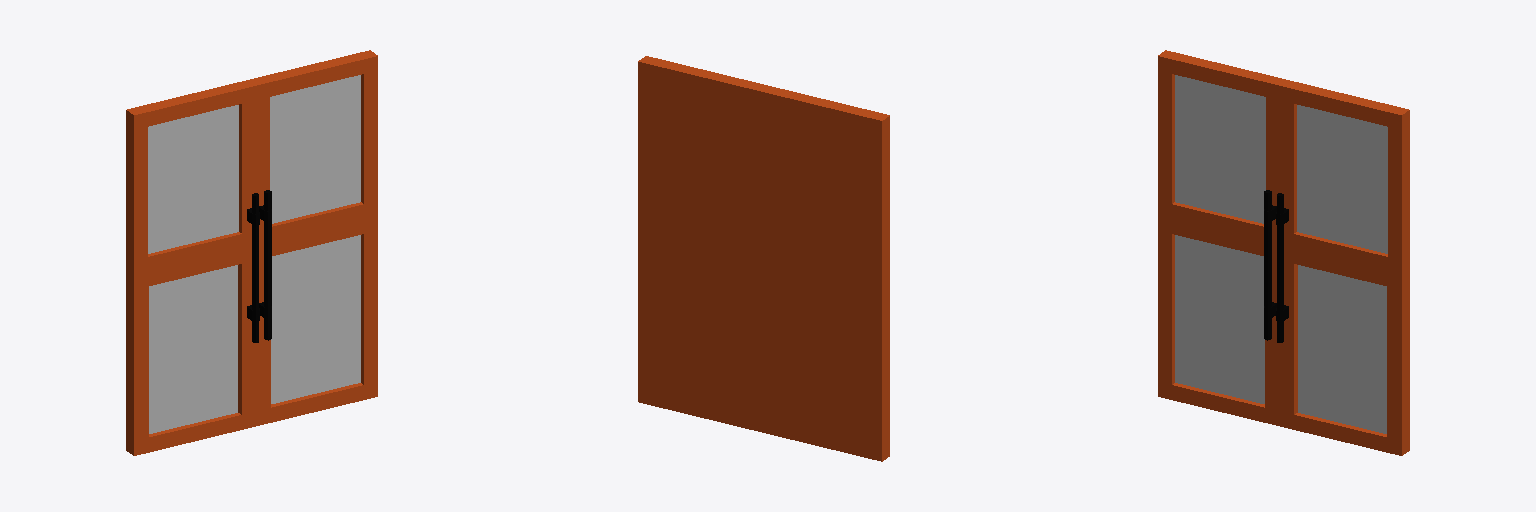
File: doors.obj
3 renders of one model, left to right at view 1: azimuth 30°, elevation 25°; view 2: azimuth 150°, elevation 25°; view 3: azimuth 330°, elevation 25°, orthographic.
Visible parts, largest first — view 1: Cube; view 2: Cube; view 3: Cube.
Boxes of the visible parts, <box> form: Cube: <box>126,50,377,455</box>; Cube: <box>638,56,889,461</box>; Cube: <box>1158,50,1409,455</box>.
Bounding box in the file's own units: 1.5 × 2 × 0.1663.